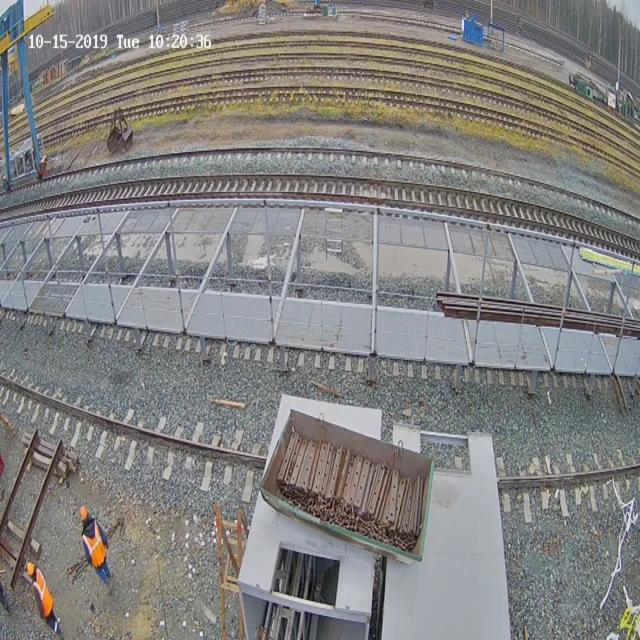Helmet: (80, 505, 88, 521), (26, 562, 35, 575)
Person: (79, 505, 114, 594), (26, 561, 62, 637)
